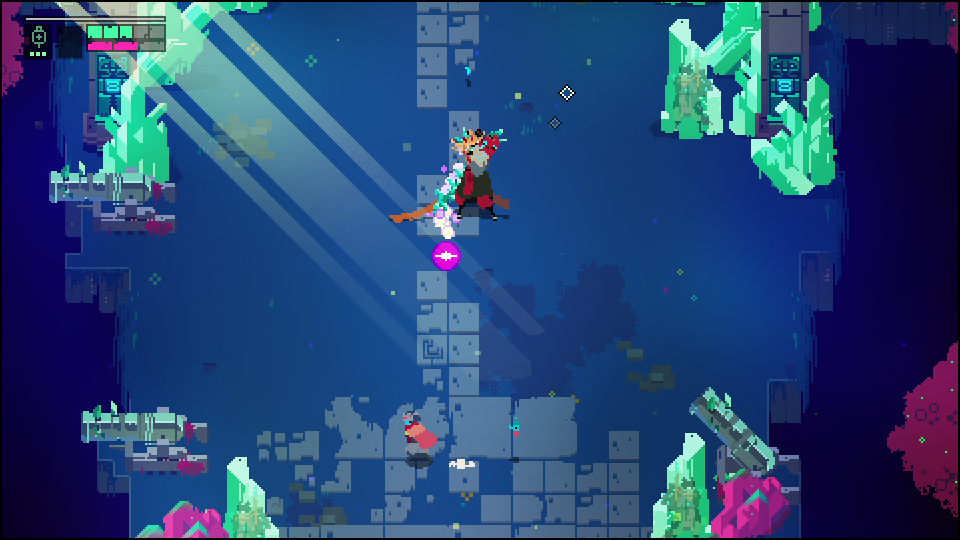hanged_man: (410, 126, 502, 220)
hanged_shot: (431, 240, 459, 269)
player: (401, 410, 438, 457)
